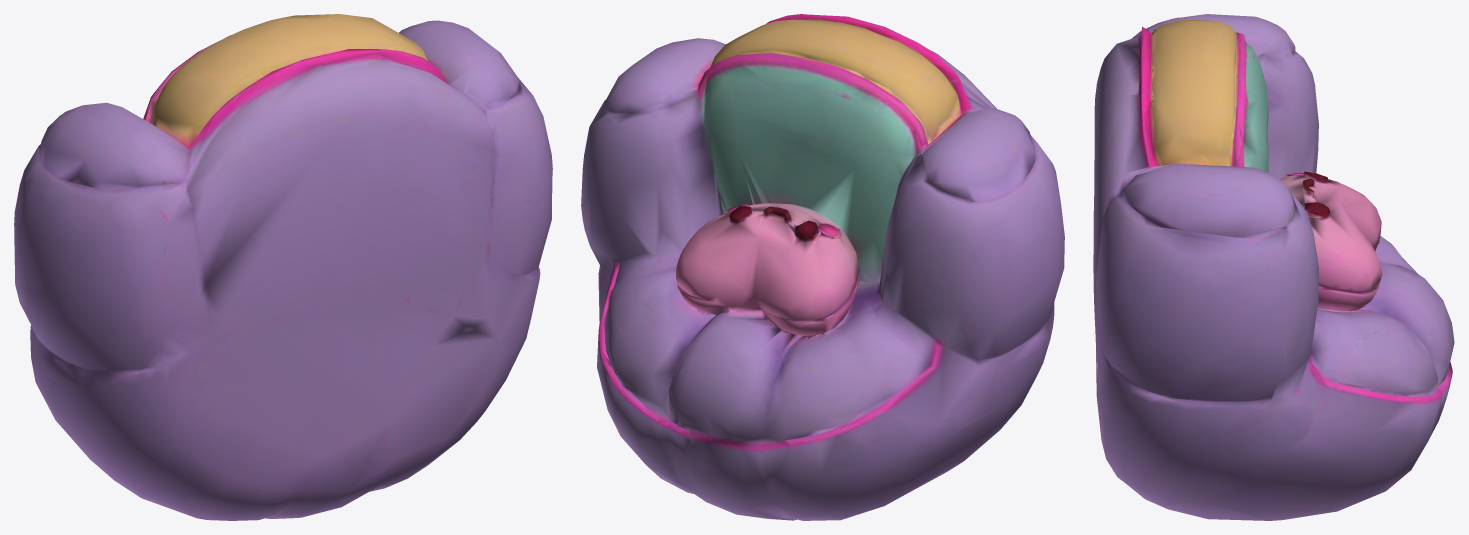
3 renders of one model, left to right at view 1: azimuth 30°, elevation 25°; view 2: azimuth 150°, elevation 25°; view 3: azimuth 270°, elevation 25°, orthographic. The views are drawn at different scales.
Visible parts, largest first — view 1: material; view 2: material; view 3: material.
Part boxes in pixels (x1,y1,x2,y2): material: (14, 14, 552, 520); material: (581, 14, 1064, 520); material: (1093, 14, 1454, 520).
Size of the model in its own units: 1 by 0.9487 by 0.6831.
Materials: 1 (1 with a texture image).
